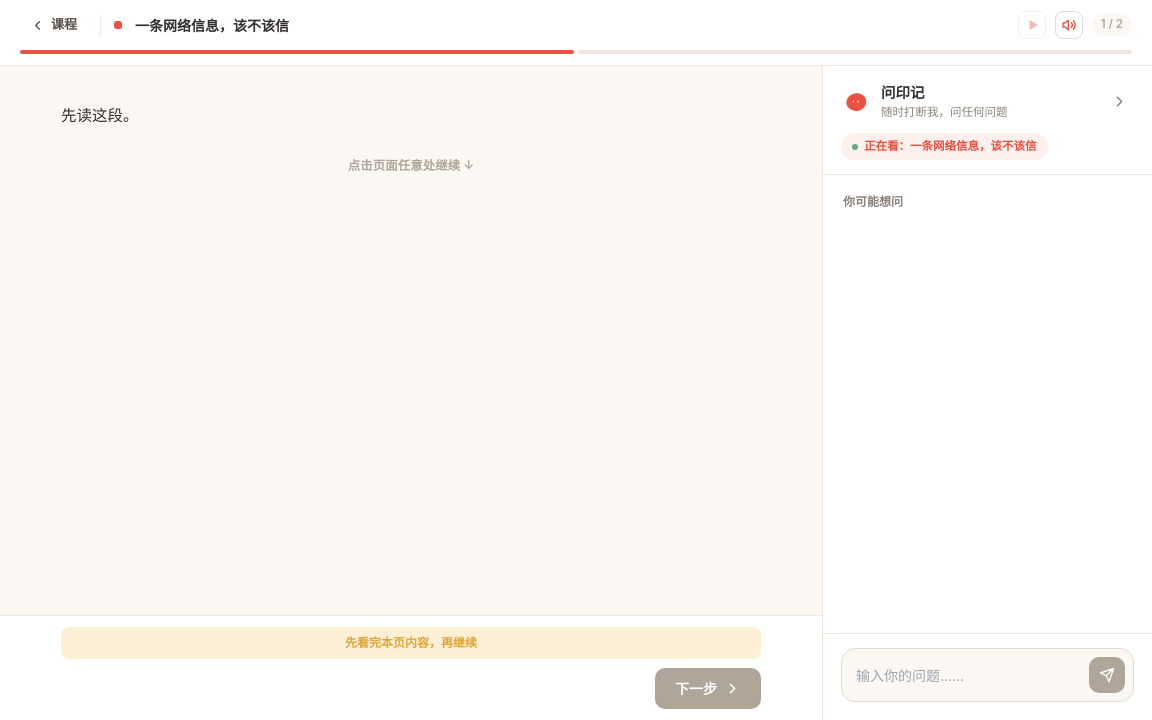
Scenario: CoursePlayer › gates 下一步 until the step is fully revealed AND its quiz answered
The width and height of the screenshot is (1152, 720).
Expected: the text "先读这段。" is shown, x1=61 y1=106 x2=138 y2=125
Expected: the button labelled "下一步" is disabled, x1=655 y1=668 x2=761 y2=709
// Reveal the second segment, then the quiz.
Click the element with test id "segment-timeline" at (100, 116), box x1=61 y1=106 x2=474 y2=173
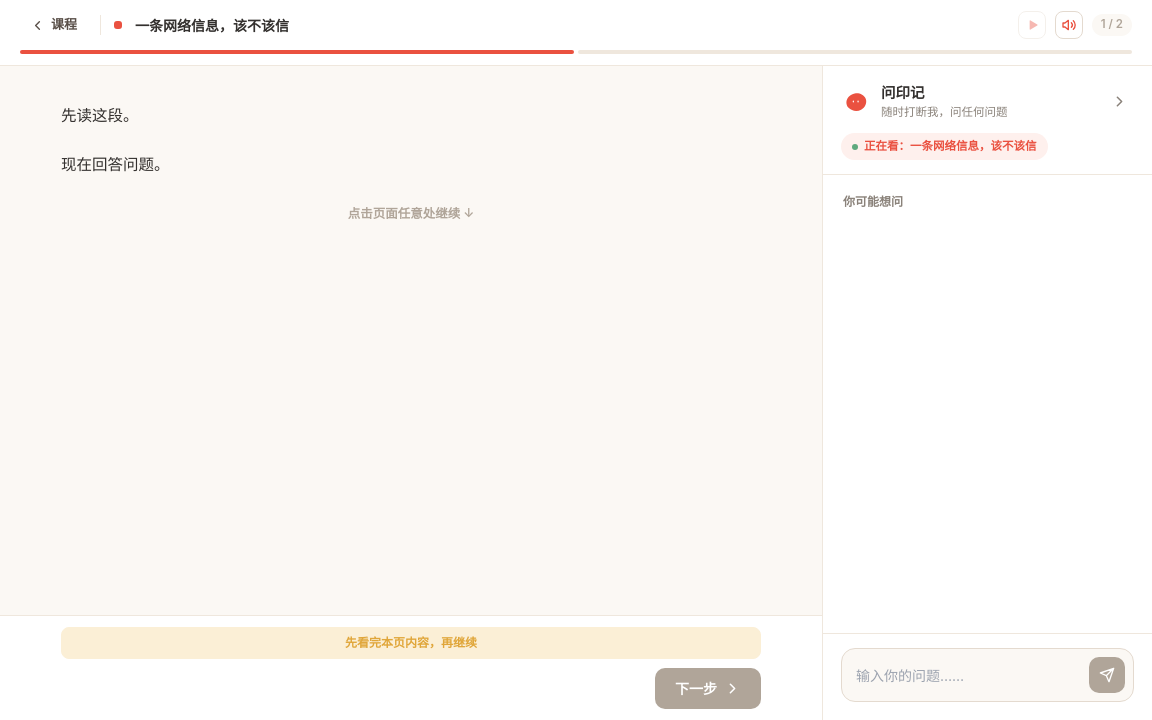
Expected: the text "现在回答问题。" is shown, x1=61 y1=155 x2=170 y2=174
Click the element with test id "segment-timeline" at (100, 116), box x1=61 y1=106 x2=474 y2=221
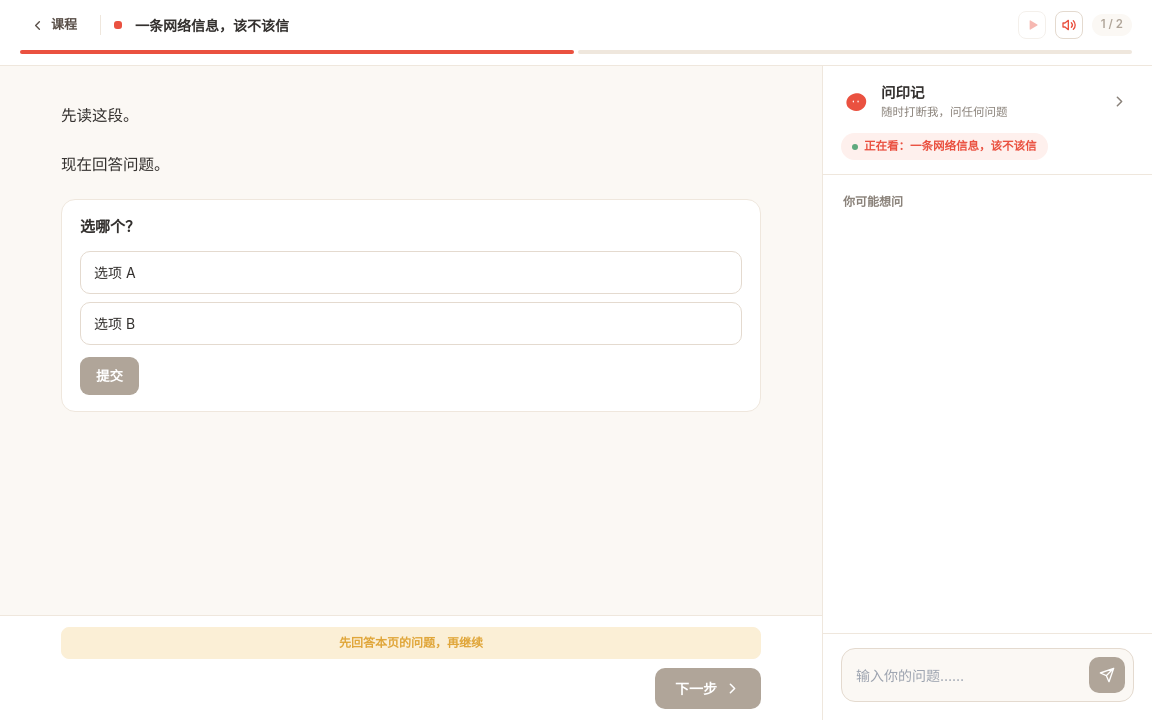
Expected: the button labelled "下一步" is disabled, x1=655 y1=668 x2=761 y2=709
Expected: the text "选哪个？" is shown, x1=80 y1=217 x2=140 y2=236
// Answer (any option) and submit → gate clears.
Click the button "选项 A" at (115, 272), box x1=80 y1=251 x2=742 y2=294
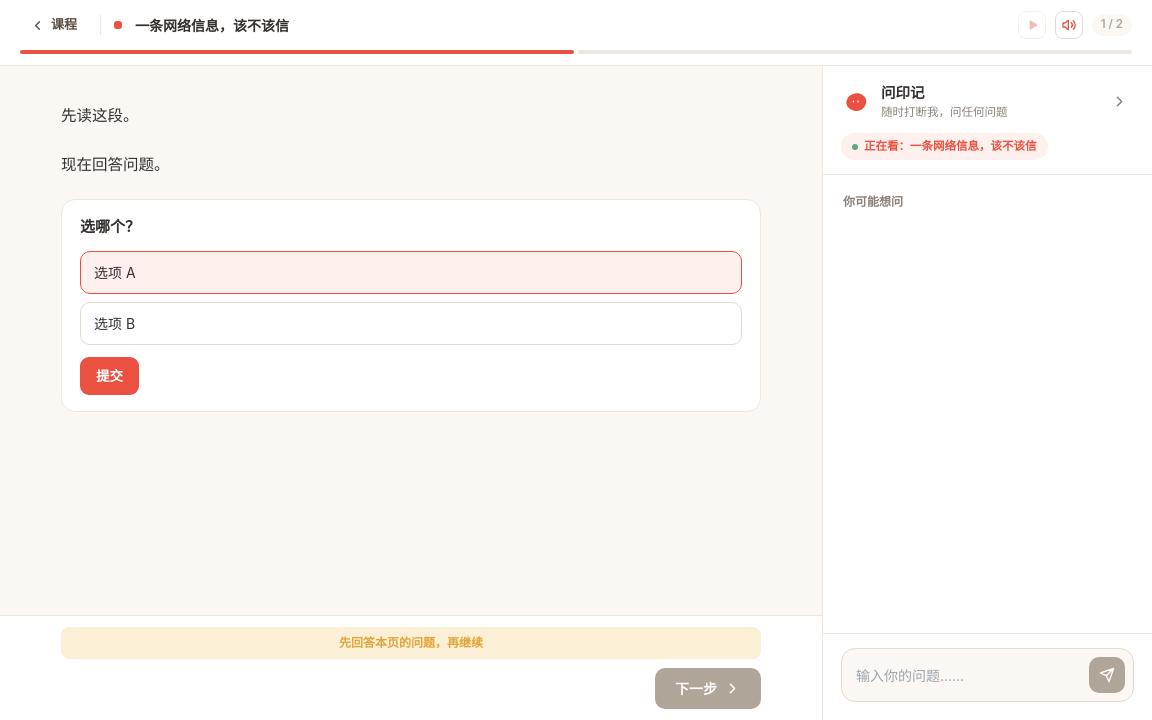
Click the button "提交" at (110, 376), box x1=80 y1=357 x2=139 y2=395
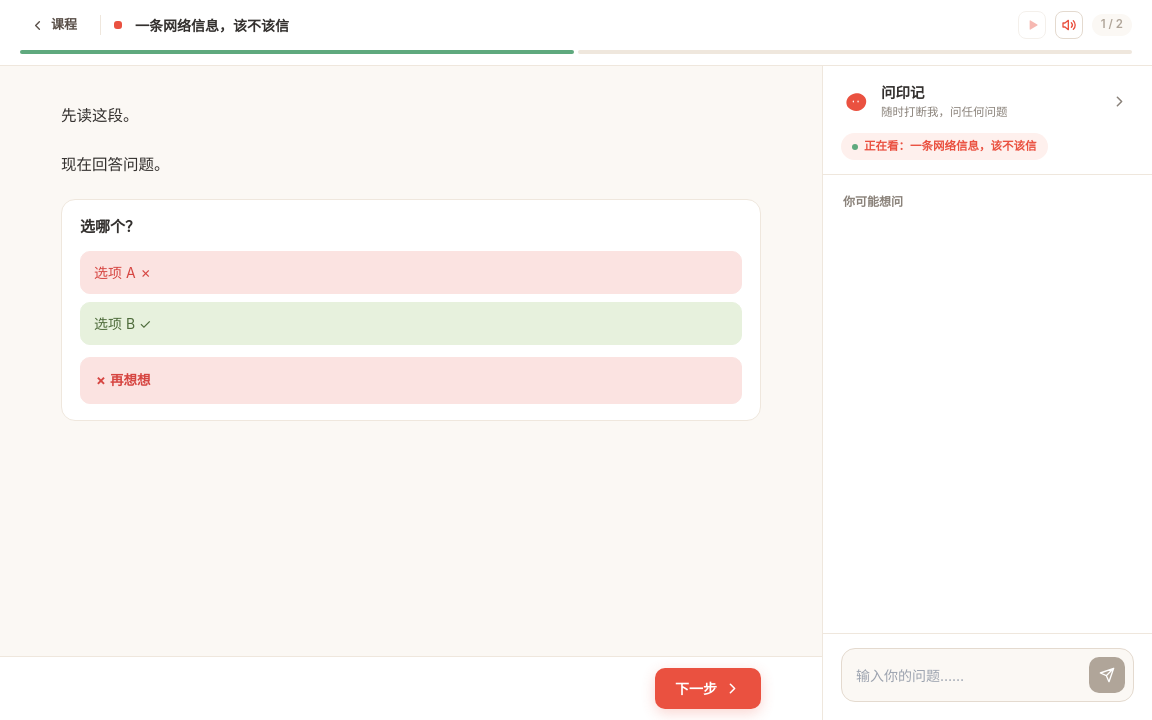
Expected: the button labelled "下一步" is enabled, x1=655 y1=668 x2=761 y2=709
